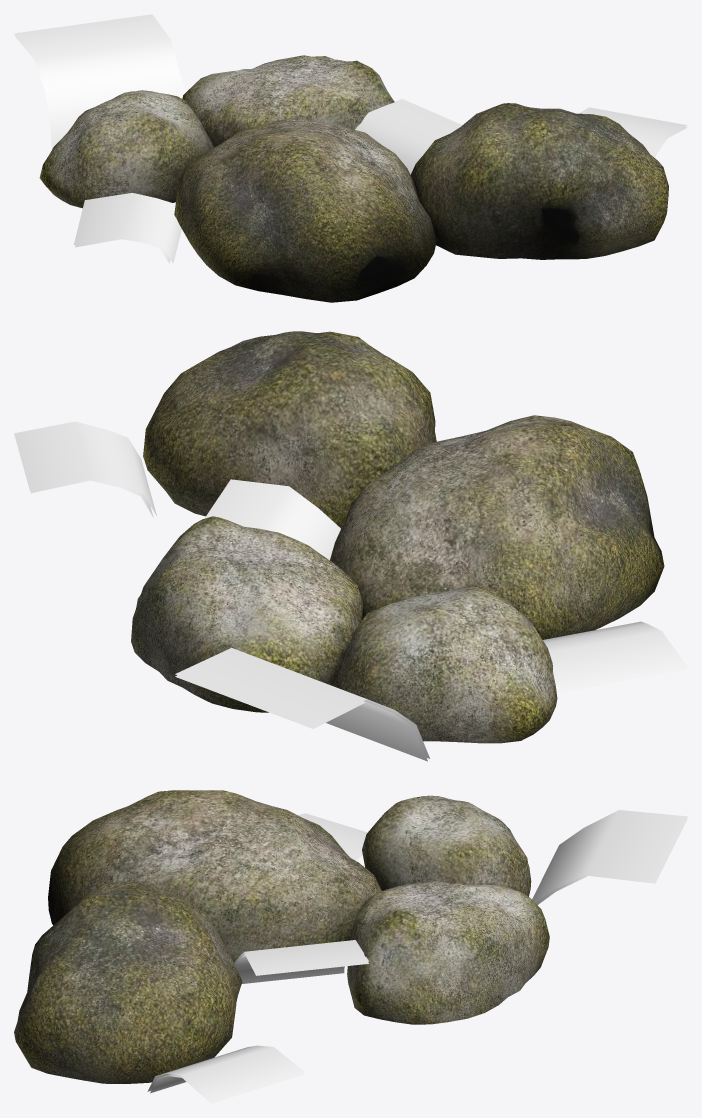
The model's file is Stone1.fbx.
3 renders of one model, top to bottom at view 1: azimuth 30°, elevation 25°; view 2: azimuth 150°, elevation 25°; view 3: azimuth 270°, elevation 25°, orthographic. The views are drawn at different scales.
Parts seen in each view (by area): view 1: prim2; view 2: prim2; view 3: prim2.
Part boxes in pixels (<box>): prim2: <box>14,14,687,302</box>; prim2: <box>14,331,687,761</box>; prim2: <box>14,790,687,1103</box>.
Size of the model in its own units: 270 by 53.61 by 255.
